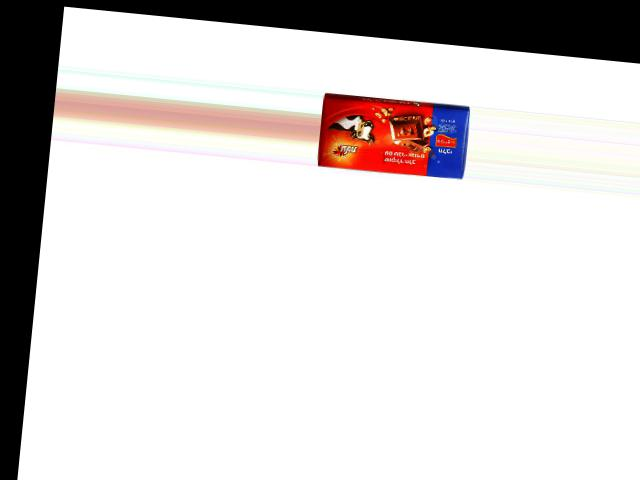chocolate: (317, 86, 469, 178)
